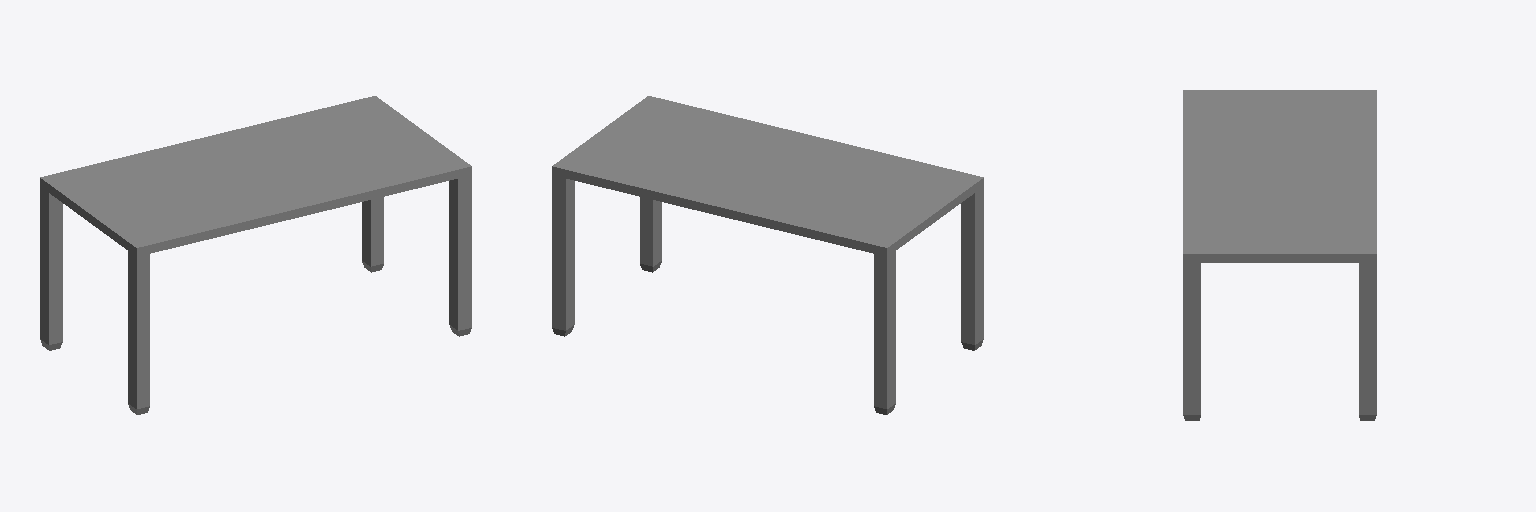
File: Table.obj
The picture shows the model from 3 angles: view 1: azimuth 30°, elevation 25°; view 2: azimuth 150°, elevation 25°; view 3: azimuth 270°, elevation 25°; orthographic projection.
Parts seen in each view (by area): view 1: Box001; view 2: Box001; view 3: Box001.
Boxes of the visible parts, x1,y1,x2,y2 form: Box001: [40, 96, 471, 414]; Box001: [552, 96, 983, 414]; Box001: [1183, 90, 1376, 420].
Size of the model in its own units: 100 by 48.05 by 50.05.